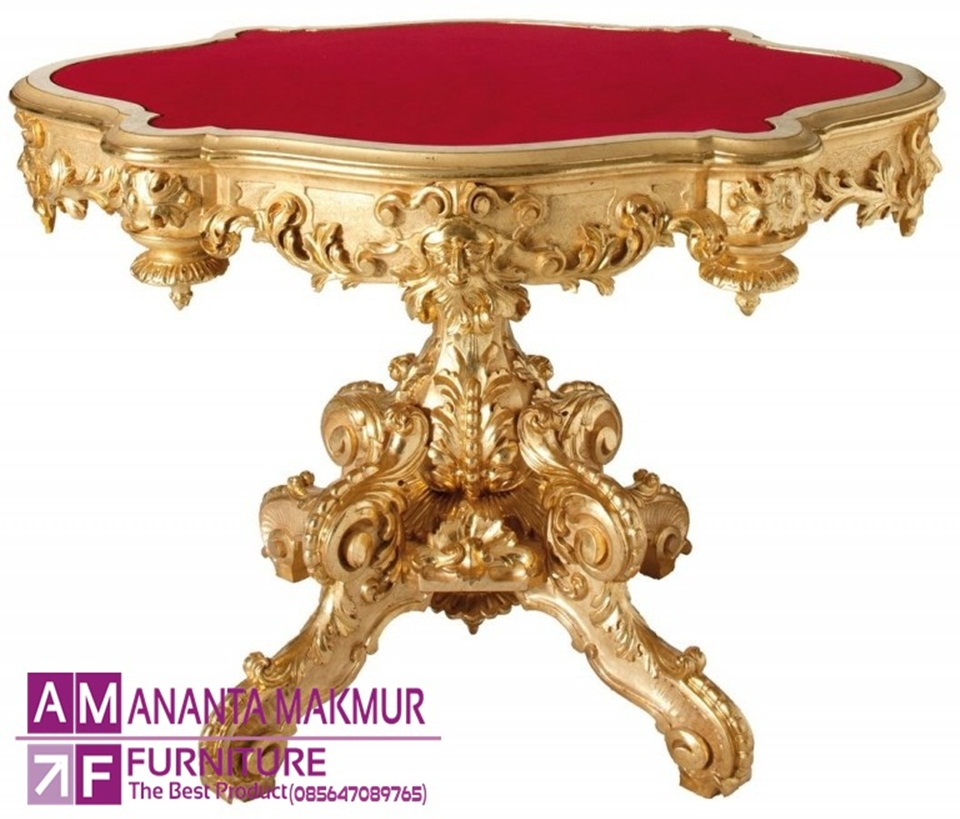Carving Table: (39, 40, 909, 758)
